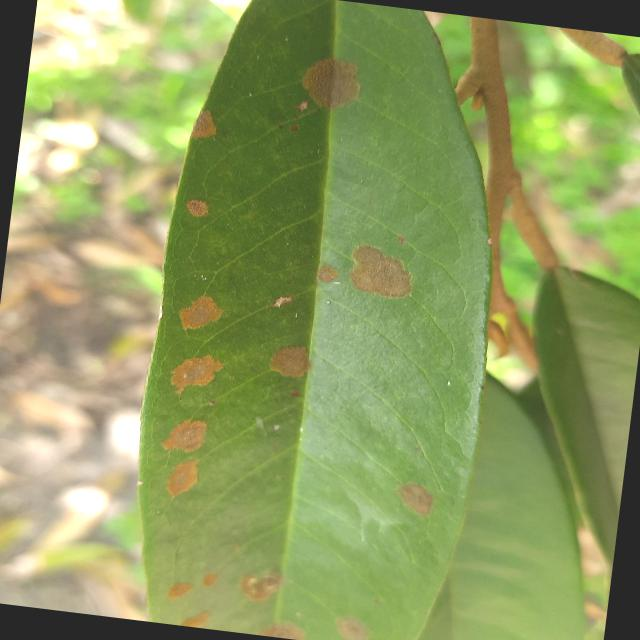Algal Leaf Spot: (113, 0, 540, 639)
